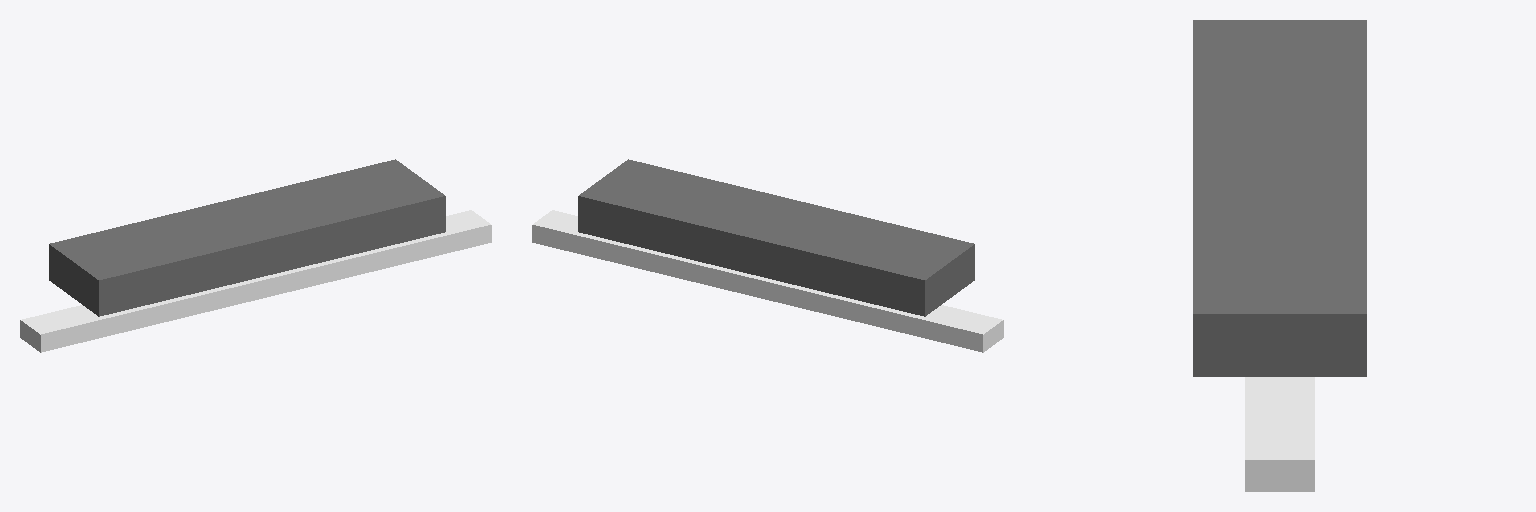
URDF robot description (my_conveyor_belt):
<?xml version="1.0" ?>
<!-- =================================================================================== -->
<!-- |    This document was autogenerated by xacro from [local-path]/ros2_ws/src/my_robot/urdf/my_conveyor_belt.xacro | -->
<!-- |    EDITING THIS FILE BY HAND IS NOT RECOMMENDED                                 | -->
<!-- =================================================================================== -->
<robot name="my_conveyor_belt">
  <!-- Material definitions -->
  <material name="grey">
    <color rgba="0.5 0.5 0.5 1.0"/>
  </material>
  <material name="white">
    <color rgba="1.0 1.0 1.0 1.0"/>
  </material>
  <material name="black">
    <color rgba="0.0 0.0 0.0 1.0"/>
  </material>
  <link name="base_link">
    <visual>
      <geometry>
        <box size="2.0 0.5 0.2"/>
      </geometry>
      <origin rpy="0 0 0" xyz="0 0 0"/>
      <material name="grey"/>
    </visual>
    <collision>
      <geometry>
        <box size="2.0 0.5 0.2"/>
      </geometry>
      <origin rpy="0 0 0" xyz="0 0 0"/>
    </collision>
  </link>
  <link name="axle_0">
    <visual>
      <geometry>
        <sphere radius="0.05"/>
      </geometry>
      <origin rpy="0 0 0" xyz="0 0 0"/>
      <material name="white"/>
    </visual>
    <collision>
      <geometry>
        <sphere radius="0.05"/>
      </geometry>
      <origin rpy="0 0 0" xyz="0 0 0"/>
    </collision>
  </link>
  <joint name="base_to_axle_0" type="fixed">
    <parent link="base_link"/>
    <child link="axle_0"/>
    <origin rpy="0 0 0" xyz="-0.8 0 -0.15000000000000002"/>
  </joint>
  <link name="bar_0">
    <visual>
      <geometry>
        <box size="1.4 0.2 0.1"/>
      </geometry>
      <origin rpy="0 0 0" xyz="0 0 0"/>
      <material name="white"/>
    </visual>
    <collision>
      <geometry>
        <box size="1.4 0.2 0.1"/>
      </geometry>
      <origin rpy="0 0 0" xyz="0 0 0"/>
    </collision>
  </link>
  <joint name="axle_0_to_bar_0" type="revolute">
    <parent link="axle_0"/>
    <child link="bar_0"/>
    <origin rpy="0 0 0" xyz="0.25 0 -0.1"/>
    <axis xyz="0 0 1"/>
    <limit effort="100" lower="0" upper="0.7853981633975" velocity="10"/>
  </joint>
  <link name="axle_1">
    <visual>
      <geometry>
        <sphere radius="0.05"/>
      </geometry>
      <origin rpy="0 0 0" xyz="0 0 0"/>
      <material name="white"/>
    </visual>
    <collision>
      <geometry>
        <sphere radius="0.05"/>
      </geometry>
      <origin rpy="0 0 0" xyz="0 0 0"/>
    </collision>
  </link>
  <joint name="base_to_axle_1" type="fixed">
    <parent link="base_link"/>
    <child link="axle_1"/>
    <origin rpy="0 0 0" xyz="-0.4 0 -0.15000000000000002"/>
  </joint>
  <link name="bar_1">
    <visual>
      <geometry>
        <box size="1.4 0.2 0.1"/>
      </geometry>
      <origin rpy="0 0 0" xyz="0 0 0"/>
      <material name="white"/>
    </visual>
    <collision>
      <geometry>
        <box size="1.4 0.2 0.1"/>
      </geometry>
      <origin rpy="0 0 0" xyz="0 0 0"/>
    </collision>
  </link>
  <joint name="axle_1_to_bar_1" type="revolute">
    <parent link="axle_1"/>
    <child link="bar_1"/>
    <origin rpy="0 0 0" xyz="0.25 0 -0.1"/>
    <axis xyz="0 0 1"/>
    <limit effort="100" lower="0" upper="0.7853981633975" velocity="10"/>
  </joint>
  <link name="axle_2">
    <visual>
      <geometry>
        <sphere radius="0.05"/>
      </geometry>
      <origin rpy="0 0 0" xyz="0 0 0"/>
      <material name="white"/>
    </visual>
    <collision>
      <geometry>
        <sphere radius="0.05"/>
      </geometry>
      <origin rpy="0 0 0" xyz="0 0 0"/>
    </collision>
  </link>
  <joint name="base_to_axle_2" type="fixed">
    <parent link="base_link"/>
    <child link="axle_2"/>
    <origin rpy="0 0 0" xyz="0 0 -0.15000000000000002"/>
  </joint>
  <link name="bar_2">
    <visual>
      <geometry>
        <box size="1.4 0.2 0.1"/>
      </geometry>
      <origin rpy="0 0 0" xyz="0 0 0"/>
      <material name="white"/>
    </visual>
    <collision>
      <geometry>
        <box size="1.4 0.2 0.1"/>
      </geometry>
      <origin rpy="0 0 0" xyz="0 0 0"/>
    </collision>
  </link>
  <joint name="axle_2_to_bar_2" type="revolute">
    <parent link="axle_2"/>
    <child link="bar_2"/>
    <origin rpy="0 0 0" xyz="0.25 0 -0.1"/>
    <axis xyz="0 0 1"/>
    <limit effort="100" lower="0" upper="0.7853981633975" velocity="10"/>
  </joint>
  <link name="axle_3">
    <visual>
      <geometry>
        <sphere radius="0.05"/>
      </geometry>
      <origin rpy="0 0 0" xyz="0 0 0"/>
      <material name="white"/>
    </visual>
    <collision>
      <geometry>
        <sphere radius="0.05"/>
      </geometry>
      <origin rpy="0 0 0" xyz="0 0 0"/>
    </collision>
  </link>
  <joint name="base_to_axle_3" type="fixed">
    <parent link="base_link"/>
    <child link="axle_3"/>
    <origin rpy="0 0 0" xyz="0.4 0 -0.15000000000000002"/>
  </joint>
  <link name="bar_3">
    <visual>
      <geometry>
        <box size="1.4 0.2 0.1"/>
      </geometry>
      <origin rpy="0 0 0" xyz="0 0 0"/>
      <material name="white"/>
    </visual>
    <collision>
      <geometry>
        <box size="1.4 0.2 0.1"/>
      </geometry>
      <origin rpy="0 0 0" xyz="0 0 0"/>
    </collision>
  </link>
  <joint name="axle_3_to_bar_3" type="revolute">
    <parent link="axle_3"/>
    <child link="bar_3"/>
    <origin rpy="0 0 0" xyz="0.25 0 -0.1"/>
    <axis xyz="0 0 1"/>
    <limit effort="100" lower="0" upper="0.7853981633975" velocity="10"/>
  </joint>
</robot>

--- Facts derived from the render (not from the file) ---
3 views of the same robot in one strip: view 1: azimuth 30°, elevation 25°; view 2: azimuth 150°, elevation 25°; view 3: azimuth 270°, elevation 25° (orthographic).
Robot: my_conveyor_belt — 9 links, 8 joints (4 revolute, 4 fixed); root link base_link; default pose: every joint at zero.
Visible links, largest first — view 1: base_link, bar_0, bar_1, bar_3, bar_2; view 2: base_link, bar_0, bar_2, bar_3, bar_1; view 3: base_link, bar_3, bar_2.
Boxes of the visible links, <box> form: base_link: <box>49,159,445,316</box>; bar_0: <box>20,273,282,352</box>; bar_1: <box>107,258,352,335</box>; bar_3: <box>250,210,491,287</box>; bar_2: <box>176,240,421,318</box>; base_link: <box>578,159,974,316</box>; bar_0: <box>741,273,1003,352</box>; bar_2: <box>602,239,847,318</box>; bar_3: <box>532,210,772,289</box>; bar_1: <box>671,258,916,335</box>; base_link: <box>1193,20,1366,376</box>; bar_3: <box>1245,377,1314,491</box>; bar_2: <box>1245,377,1314,400</box>.
Size in the robot's own frame: 2.6 by 0.5 by 0.4 metres.
Geometry: primitives only (box / cylinder / sphere), no mesh files.